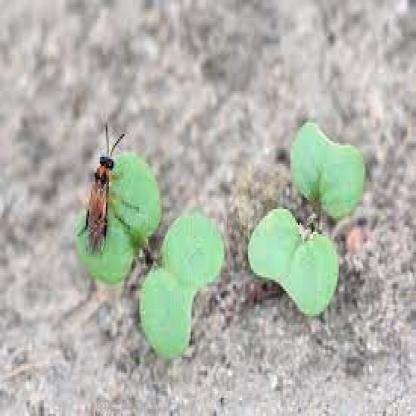sawfly: (75, 119, 137, 259)
